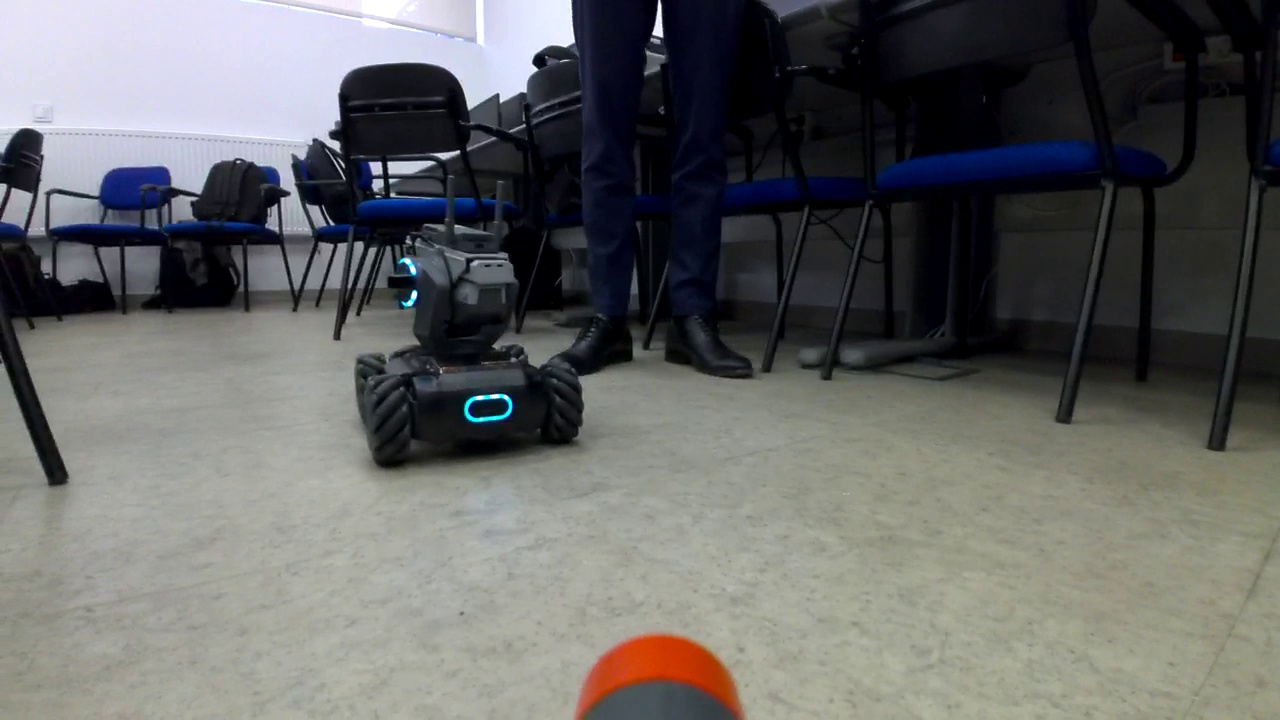robot: (349, 220, 585, 475)
